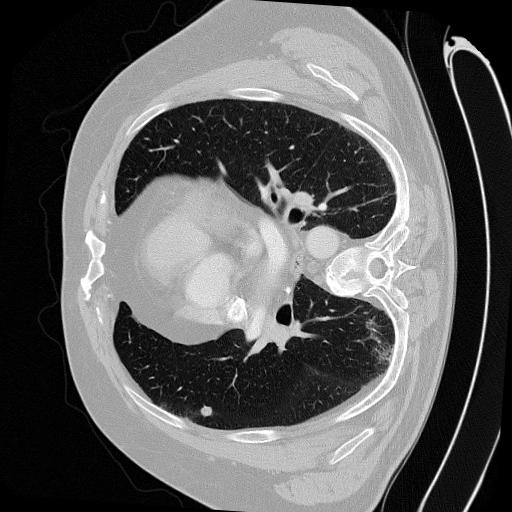nodule: (199, 405, 215, 421)
